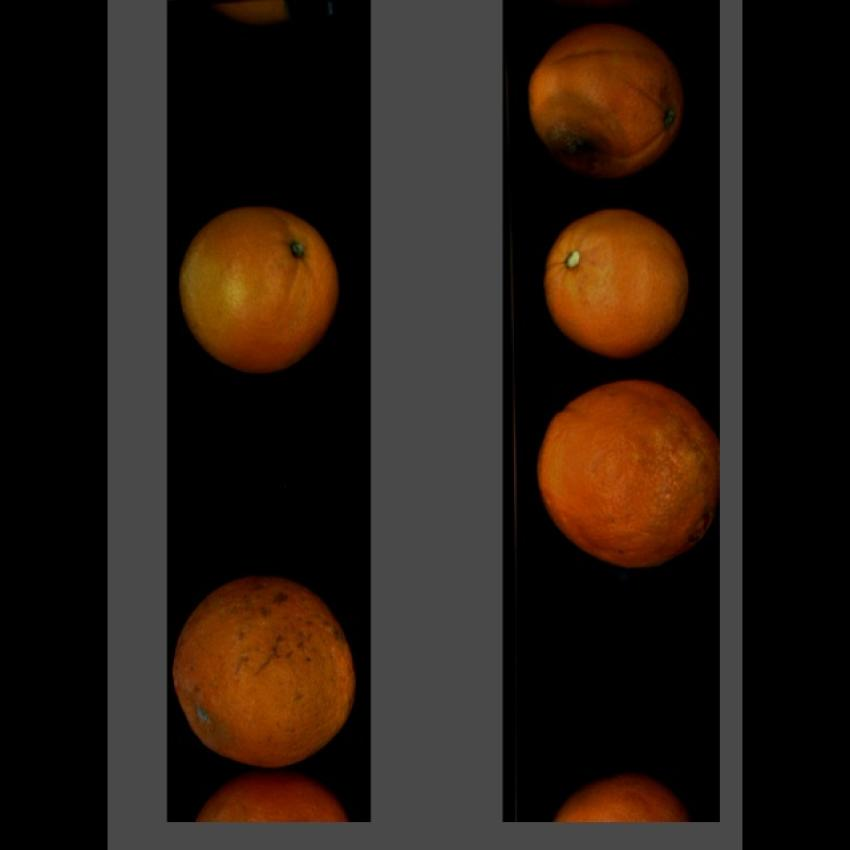Buen estado: (177, 204, 346, 374), (540, 214, 696, 351), (197, 766, 346, 818), (544, 775, 696, 821)
Mal estado: (173, 565, 362, 767), (533, 384, 728, 566), (530, 30, 688, 170)
